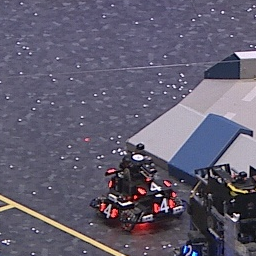Blue: (182, 245, 199, 256)
Red: (135, 179, 173, 194), (98, 201, 117, 220), (154, 197, 174, 212)
Robot: (87, 149, 186, 230), (179, 165, 256, 256)
